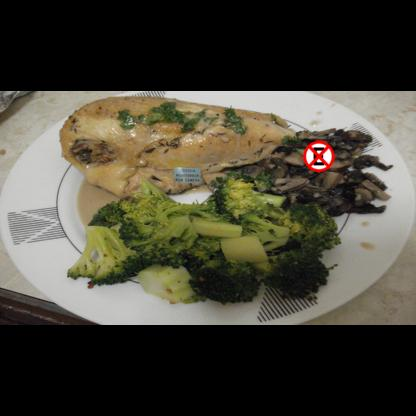I-E: (174, 167, 200, 183)
R-6c: (303, 140, 335, 172)
